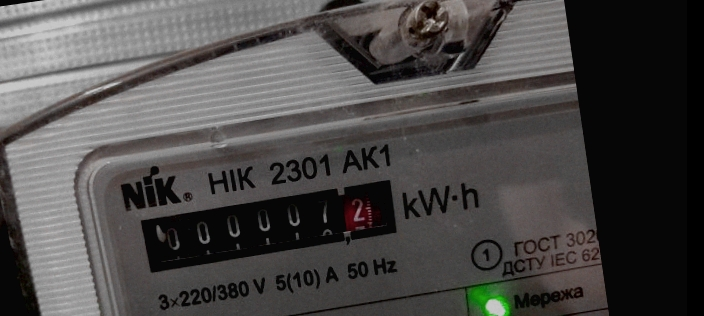0: (192, 217, 213, 247), (222, 211, 243, 240), (162, 223, 182, 252), (283, 199, 302, 229), (253, 205, 272, 233)
2: (348, 194, 367, 225)
7: (312, 196, 332, 227)
screen: (130, 169, 410, 279)
